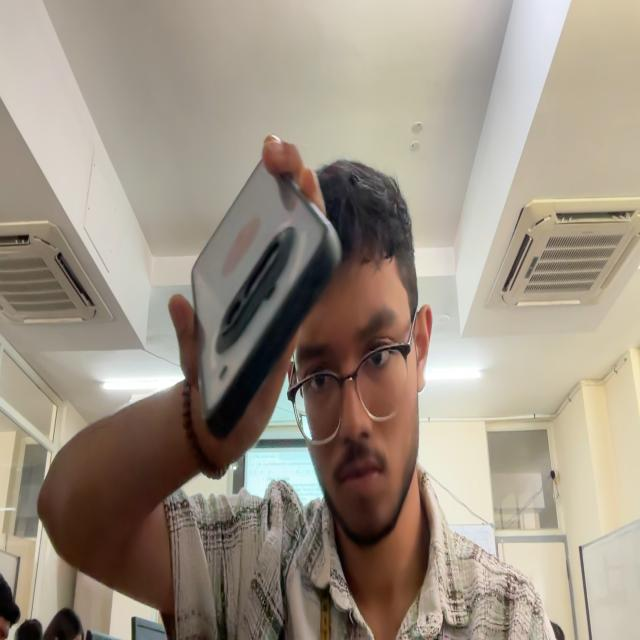Useful: (192, 161, 341, 438)
